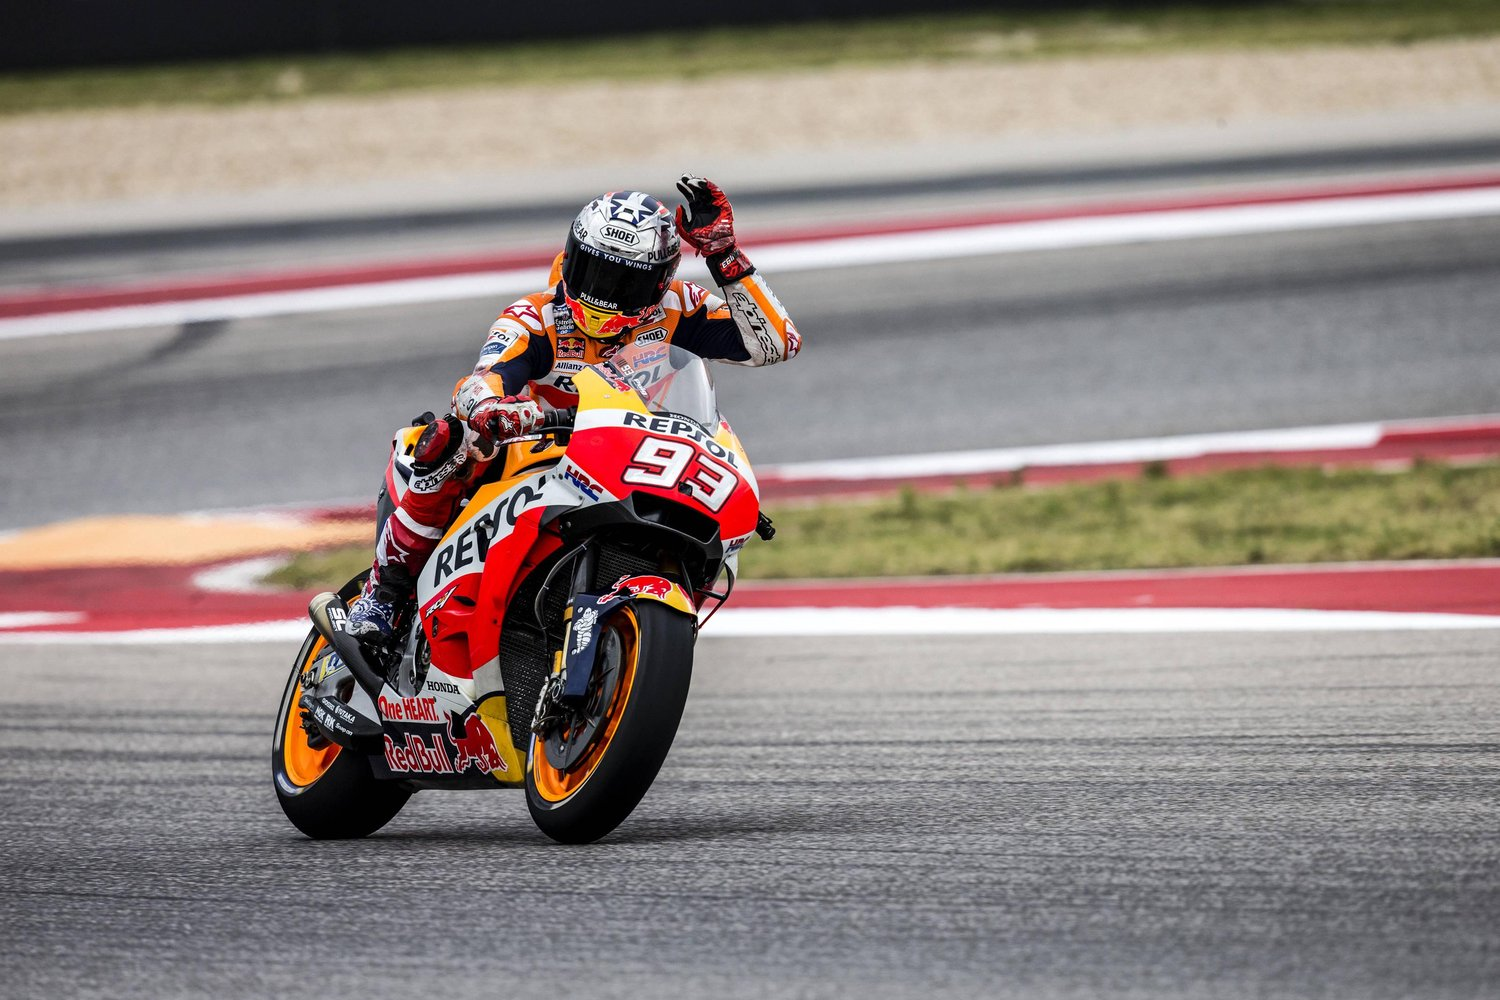helmet: (539, 158, 687, 339)
